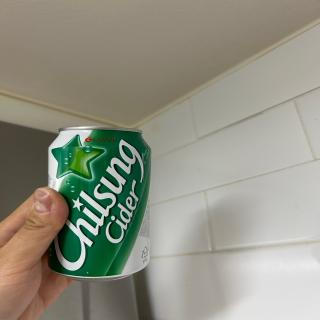chilsung: (44, 122, 155, 284)
